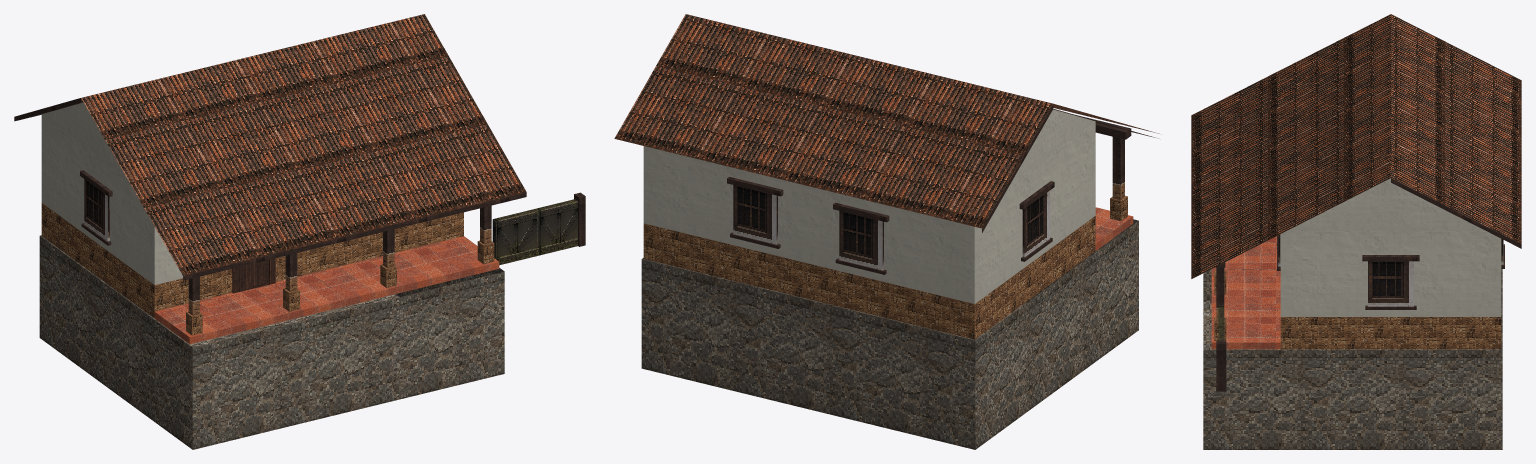
Rendered from 10_estancia_blanco_humo_porche.glb.
The picture shows the model from 3 angles, left to right: view 1: azimuth 30°, elevation 25°; view 2: azimuth 150°, elevation 25°; view 3: azimuth 270°, elevation 25°; orthographic projection. The views are drawn at different scales.
Parts seen in each view (by area): view 1: 10_estancia_blanco_humo_porche; view 2: 10_estancia_blanco_humo_porche; view 3: 10_estancia_blanco_humo_porche.
Part boxes in pixels (x1,y1,x2,y2): 10_estancia_blanco_humo_porche: [14, 14, 585, 449]; 10_estancia_blanco_humo_porche: [614, 14, 1159, 449]; 10_estancia_blanco_humo_porche: [1191, 14, 1521, 449].
Size of the model in its own units: 10.2 by 6.7 by 7.18.
Materials: 10 (10 with a texture image).
